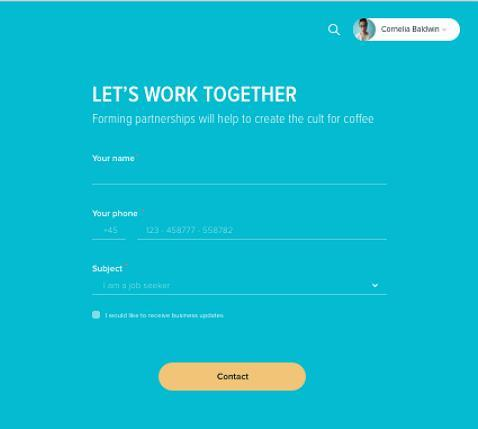button: (159, 363, 307, 392)
checkbox: (89, 309, 104, 323)
dropdown: (350, 18, 463, 44)
icon: (328, 22, 344, 41)
label: (105, 311, 227, 321), (89, 152, 144, 166), (91, 209, 149, 221), (90, 263, 132, 276)
